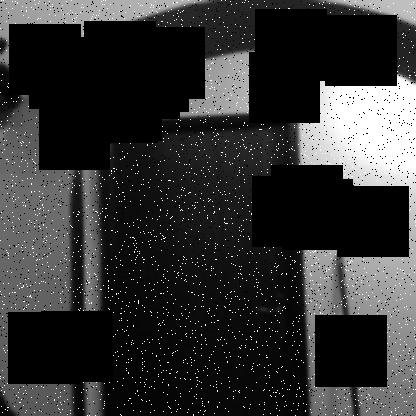Porte: (94, 108, 312, 416)
